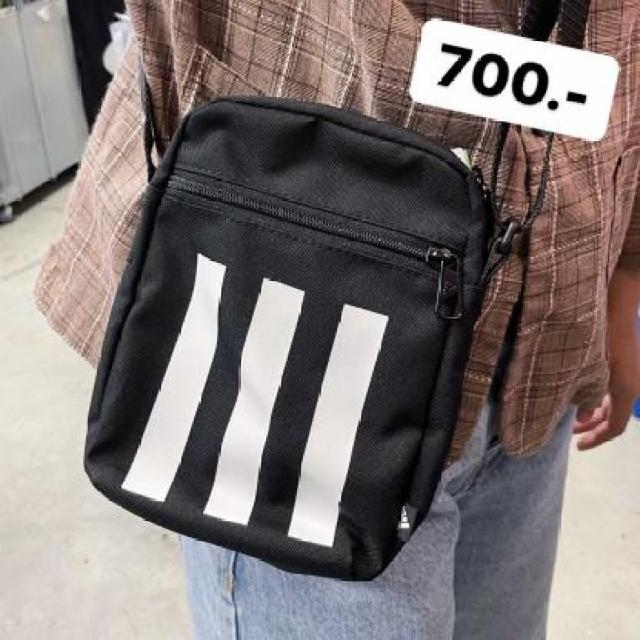Bag: (81, 83, 488, 585)
